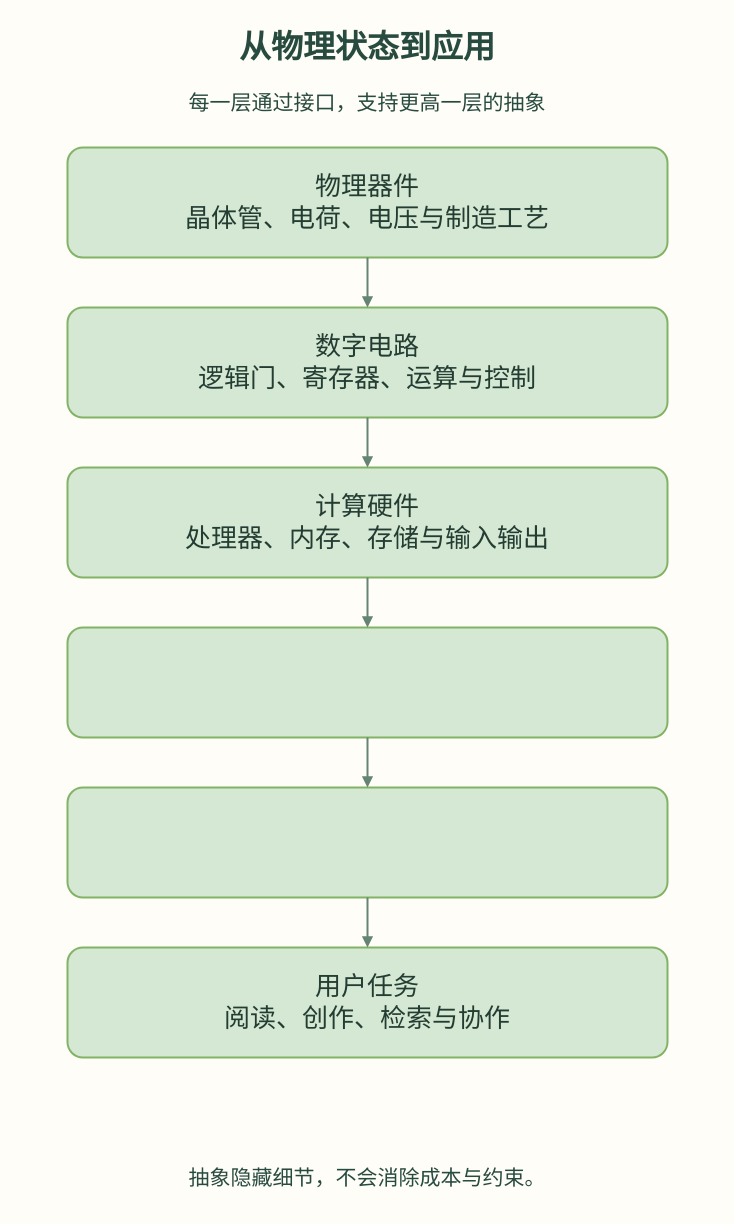
The diagram is 734 pixels wide and 1224 high, and some of its shapes have lost their labels. The shapes that lost their labels are listed below. From the top down, each one's box as (x1, y1, x2, y2) in pixels, then its label:
(66, 626, 668, 738): 基础软件 操作系统、编译器、数据库
(66, 786, 668, 898): 程序与模型 明确规则、可训练参数、工具接口
